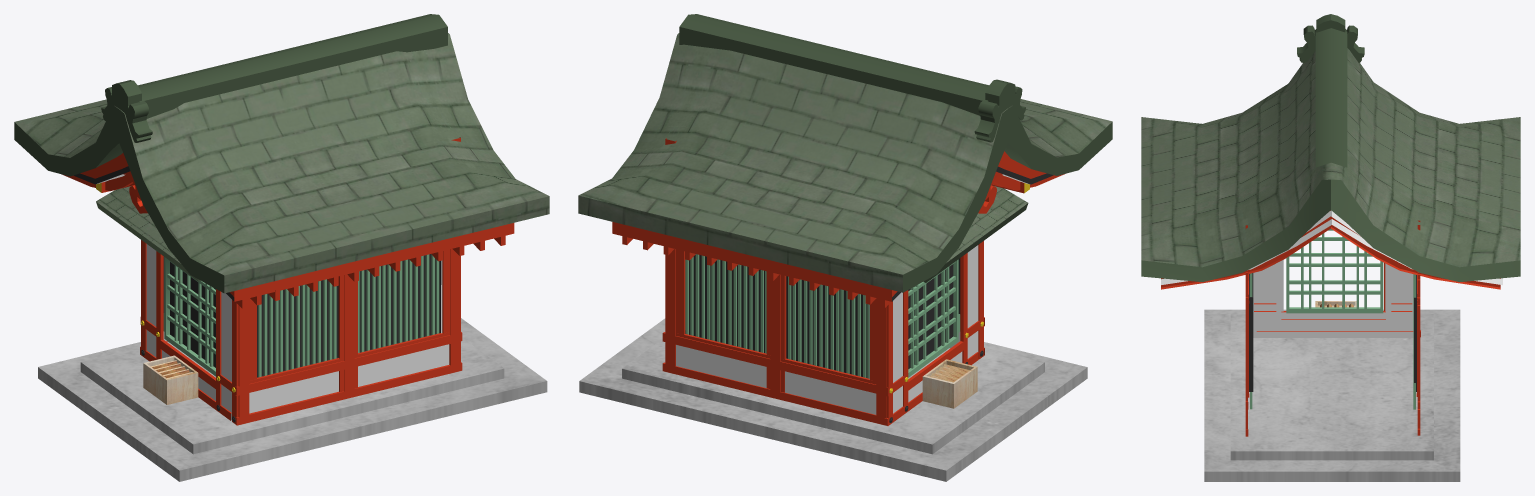
The model's file is jinjya.fbx.
3 renders of one model, left to right at view 1: azimuth 30°, elevation 25°; view 2: azimuth 150°, elevation 25°; view 3: azimuth 270°, elevation 25°, orthographic. The views are drawn at different scales.
Parts seen in each view (by area): view 1: polySurface201; view 2: polySurface201; view 3: polySurface201.
Part boxes in pixels (box(x1,y1,x2,y2)): polySurface201: box(14, 14, 549, 481); polySurface201: box(578, 14, 1112, 481); polySurface201: box(1141, 14, 1520, 481).
Bounding box in the file's own units: 11.79 × 10.54 × 11.66.
1 material, 1 textured.
